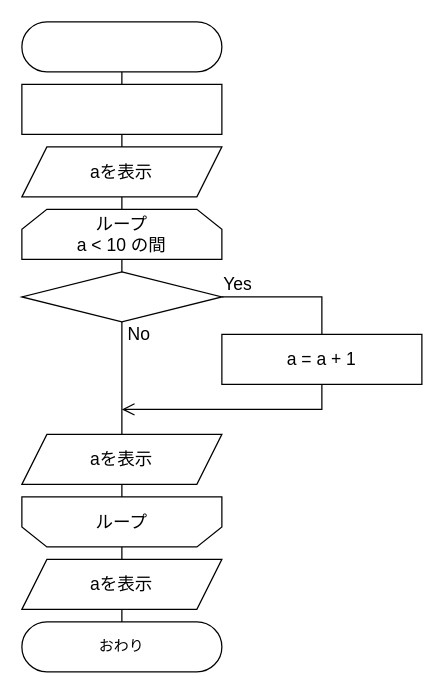
Some shapes in this 444 by 694 pixel diagram are drawn without their labels. Each missing label, with the box of its shape:
a < 10: (21, 271, 222, 322)
a = 1: (21, 83, 222, 134)
はじめ: (21, 21, 222, 72)
